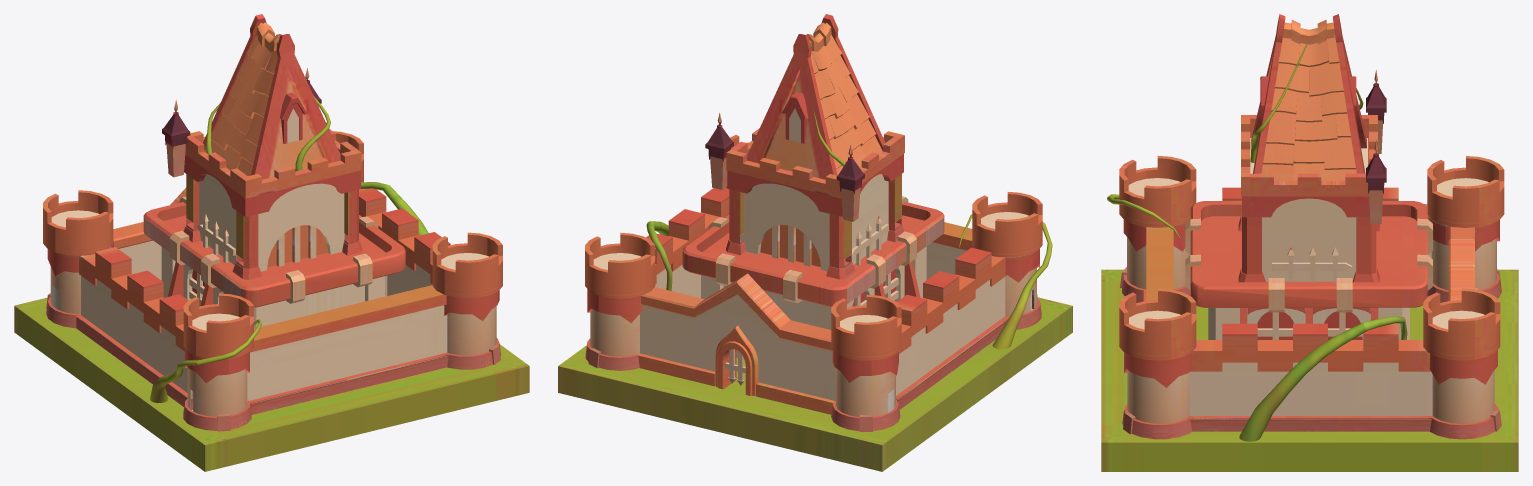
The model's file is level_185.fbx.
3 views of the same model, side by side, from view 1: azimuth 30°, elevation 25°; view 2: azimuth 150°, elevation 25°; view 3: azimuth 270°, elevation 25° (orthographic). The views are drawn at different scales.
Visible parts, largest first — view 1: Cube_L4_2.002, Cube_L4.002, Cube_L1_21, Cube_L2_50, Cube_L2_47, Cube_L2_48, Cube_L3_3.003, Cube_L1_19.001, Cube_L1_9.003, Cube_L2_49, Cube_L3.003, Cube_L2_44 (+44 smaller); view 2: Cube_L4_1.002, Cube_L4.002, Cube_L4_2.002, Cube_L1_20.001, Cube_L2_36, Cube_L2_39, Cube_L3_1.003, Cube_L1_7.003, Cube_L1_18.001, Cube_L3.003, Cube_L2_9.002, Cube_L2_3.004 (+47 smaller); view 3: Cube_L4_2.002, Cube_L3_5.002, Cube_L2_31, Cube_L2_33, Cube_L2_32, Cube_L1_13.002, Cube_L1_24, Halloween_House_108, Cube_L2_34, Cube_L1_14.002, Cube_L1_21, Cube_L1_12.002 (+51 smaller).
Boxes of the visible parts, bbox=[...] form: Cube_L4_2.002: bbox=[164, 344, 529, 471]; Cube_L4.002: bbox=[45, 325, 183, 441]; Cube_L1_21: bbox=[221, 183, 344, 271]; Cube_L2_50: bbox=[347, 305, 447, 379]; Cube_L2_47: bbox=[247, 329, 346, 401]; Cube_L2_48: bbox=[250, 285, 446, 352]; Cube_L3_3.003: bbox=[246, 248, 405, 307]; Cube_L1_19.001: bbox=[241, 149, 361, 217]; Cube_L1_9.003: bbox=[250, 51, 340, 179]; Cube_L2_49: bbox=[247, 353, 448, 414]; Cube_L3.003: bbox=[143, 213, 249, 298]; Cube_L2_44: bbox=[81, 276, 137, 360]; Cube_L4_1.002: bbox=[644, 373, 913, 471]; Cube_L4.002: bbox=[736, 331, 1032, 448]; Cube_L4_2.002: bbox=[558, 297, 1072, 413]; Cube_L1_20.001: bbox=[740, 183, 867, 271]; Cube_L2_36: bbox=[738, 295, 835, 400]; Cube_L2_39: bbox=[640, 294, 737, 371]; Cube_L3_1.003: bbox=[682, 248, 842, 306]; Cube_L1_7.003: bbox=[747, 51, 837, 179]; Cube_L1_18.001: bbox=[726, 149, 842, 216]; Cube_L3.003: bbox=[838, 213, 944, 304]; Cube_L2_9.002: bbox=[831, 307, 901, 360]; Cube_L2_3.004: bbox=[585, 245, 655, 298]; Cube_L4_2.002: bbox=[1101, 269, 1518, 471]; Cube_L3_5.002: bbox=[1197, 278, 1420, 312]; Cube_L2_31: bbox=[1310, 362, 1432, 415]; Cube_L2_33: bbox=[1189, 362, 1310, 418]; Cube_L2_32: bbox=[1191, 323, 1310, 371]; Cube_L1_13.002: bbox=[1266, 88, 1350, 145]; Cube_L1_24: bbox=[1250, 173, 1368, 217]; Halloween_House_108: bbox=[1310, 323, 1430, 371]; Cube_L2_34: bbox=[1190, 416, 1431, 431]; Cube_L1_14.002: bbox=[1261, 137, 1356, 181]; Cube_L1_21: bbox=[1250, 138, 1308, 281]; Cube_L1_12.002: bbox=[1274, 35, 1344, 96].
Bounding box in the file's own units: 20.67 × 20.49 × 20.96.
